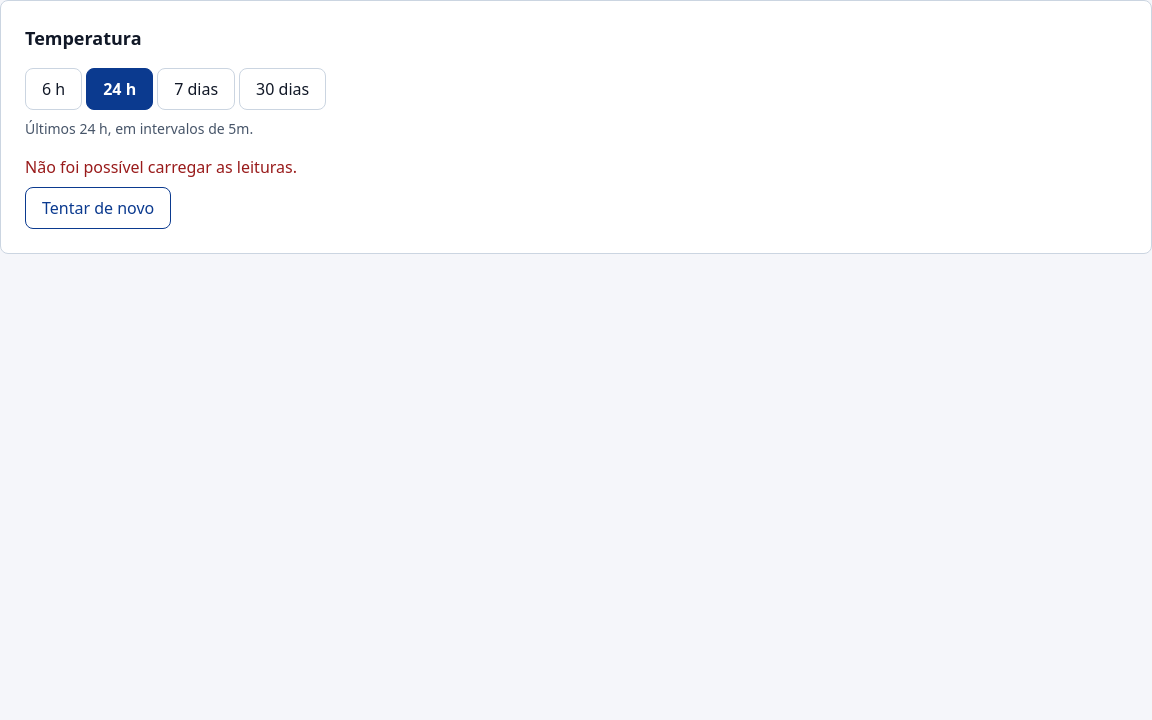
ReadingsChart › erro mostra a mensagem e 'Tentar de novo' busca de novo
Check: the message shows "Não foi possível carregar as leituras.", box [25, 156, 297, 178]
Click the button "Tentar de novo": (98, 208) [25, 187, 171, 229]
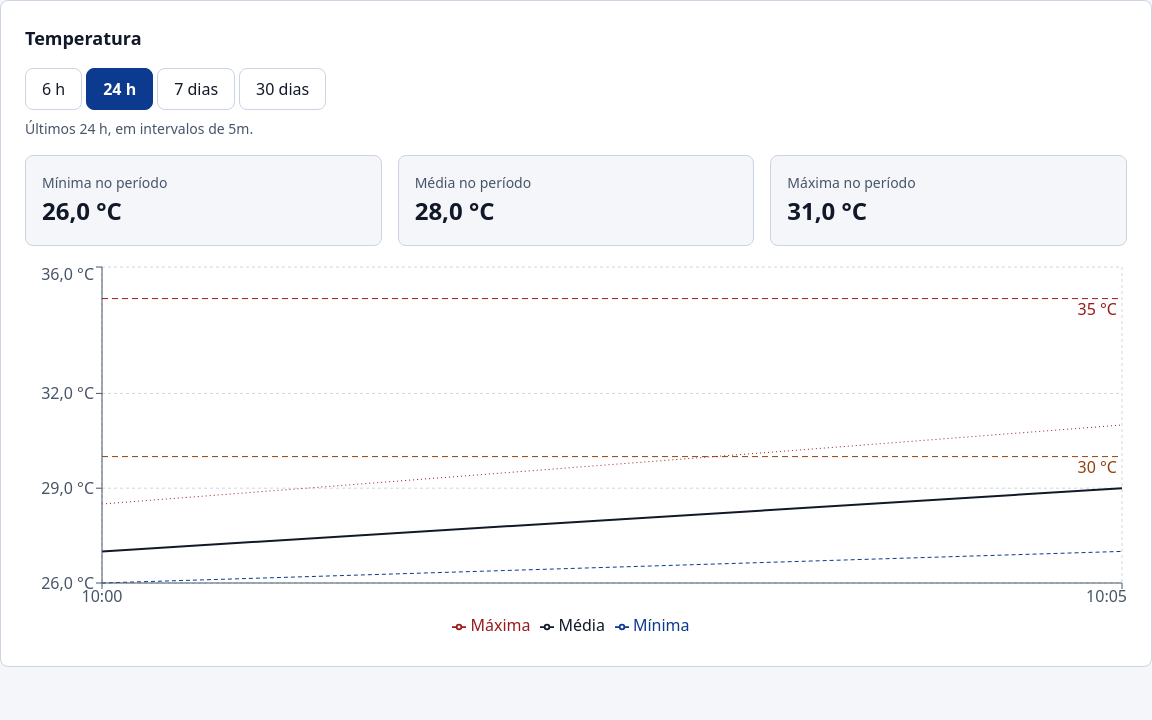
Check: the picture is shown, box [25, 262, 1127, 642]
